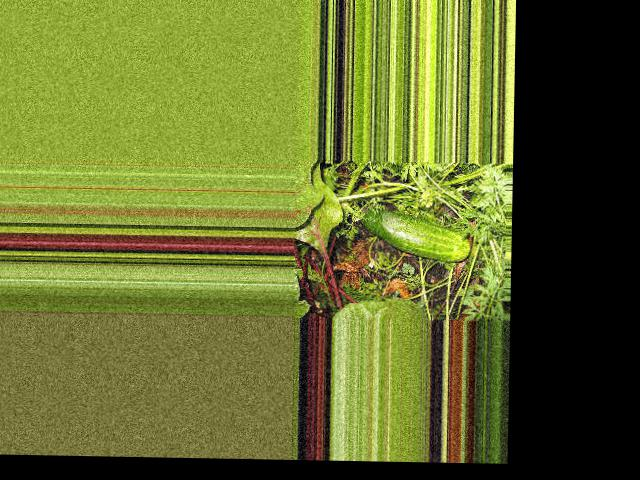cucumber: (359, 206, 469, 262)
